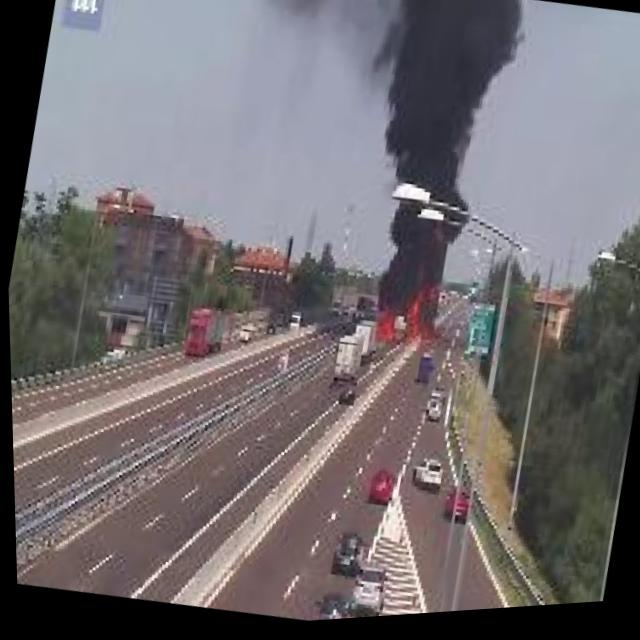fire: (364, 272, 450, 363)
